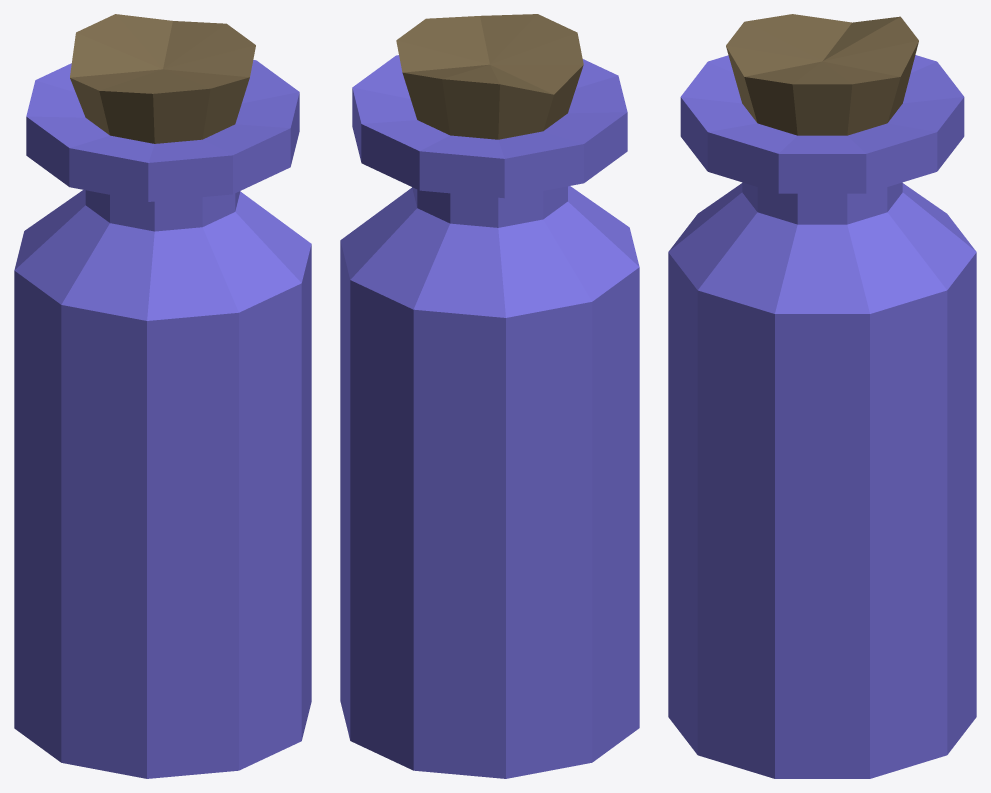
File: Angel_Tears.fbx
3 views of the same model, side by side, from view 1: azimuth 30°, elevation 25°; view 2: azimuth 150°, elevation 25°; view 3: azimuth 270°, elevation 25° (orthographic).
Parts seen in each view (by area): view 1: pCylinder1; view 2: pCylinder1; view 3: pCylinder1.
Boxes of the visible parts, x1,y1,x2,y2 form: pCylinder1: (14,14,311,778); pCylinder1: (340,14,639,778); pCylinder1: (668,14,976,778).
Size of the model in its own units: 4.45 by 11.32 by 4.68.
